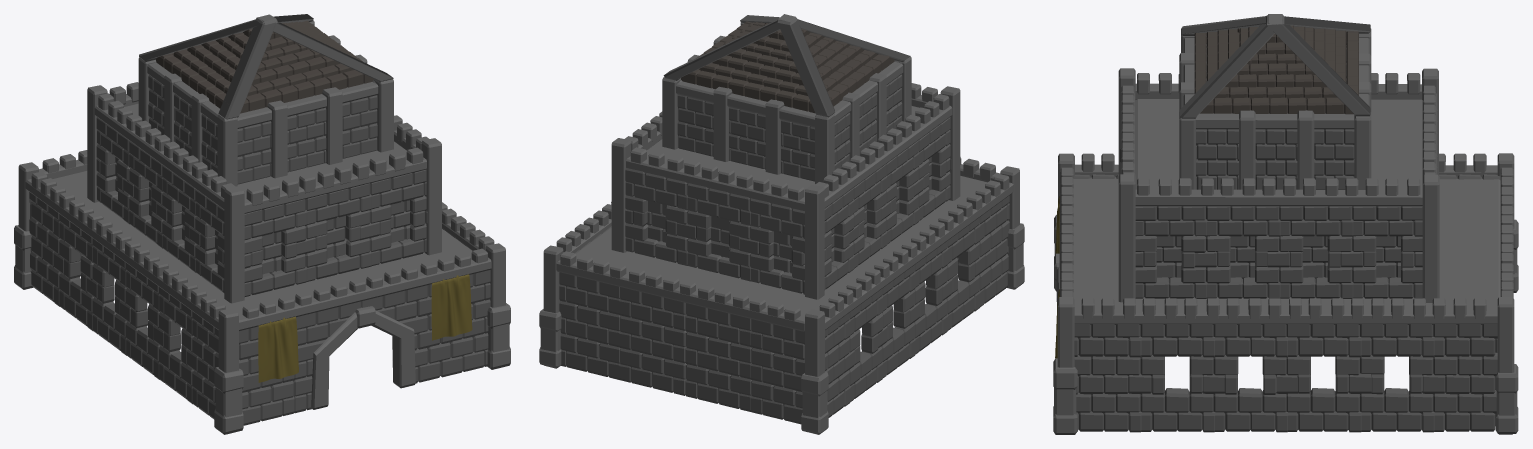
Rendered from headquarter_3lv.fbx.
The picture shows the model from 3 angles, left to right: view 1: azimuth 30°, elevation 25°; view 2: azimuth 150°, elevation 25°; view 3: azimuth 270°, elevation 25°; orthographic projection. The views are drawn at different scales.
Visible parts, largest first — view 1: polySurface1024; view 2: polySurface1024; view 3: polySurface1024.
Part boxes in pixels (x1=…): polySurface1024: x1=14, y1=14, x2=510, y2=434; polySurface1024: x1=539, y1=14, x2=1024, y2=434; polySurface1024: x1=1053, y1=14, x2=1518, y2=434.
Bounding box in the file's own units: 988 × 1020 × 1255.
